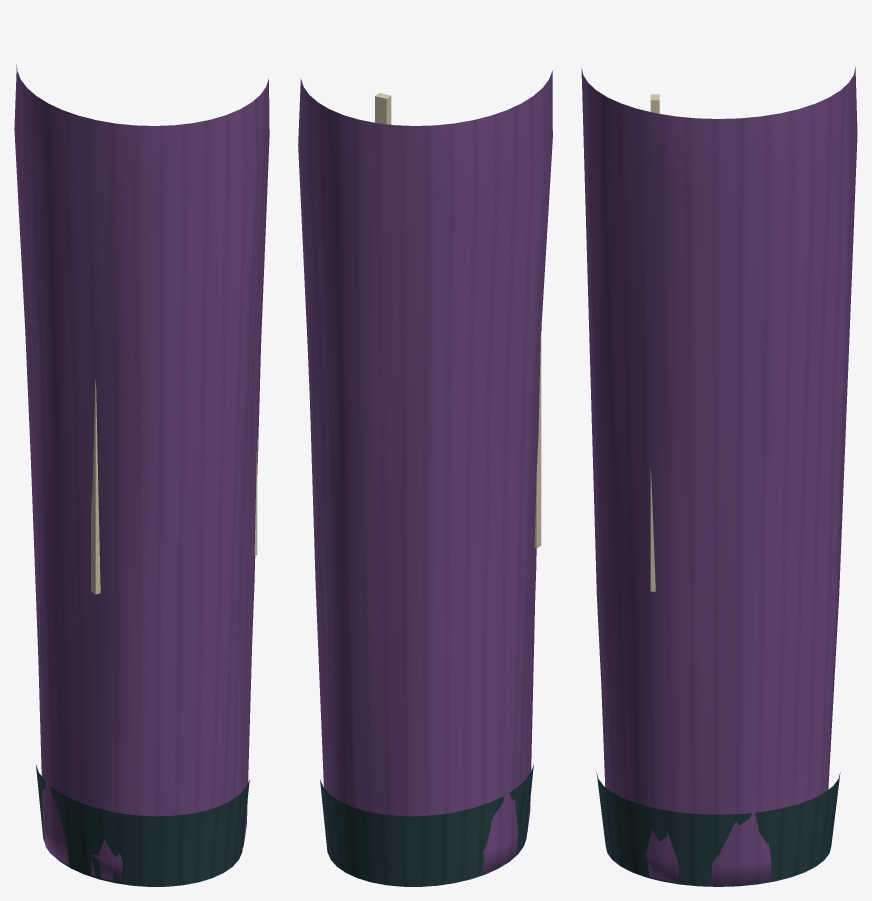
The model's file is campus_joggers.gltf.
The picture shows the model from 3 angles, left to right: view 1: azimuth 30°, elevation 25°; view 2: azimuth 150°, elevation 25°; view 3: azimuth 270°, elevation 25°; orthographic projection.
Visible parts, largest first — view 1: LegL; view 2: LegL, LegR; view 3: LegL.
Part boxes in pixels (bbox=[...]): LegL: bbox=[14, 65, 269, 886]; LegL: bbox=[298, 70, 552, 886]; LegR: bbox=[375, 93, 391, 124]; LegL: bbox=[581, 67, 857, 886].
Bounding box in the file's own units: 0.2182 × 0.749 × 0.2397.
3 materials, 3 textured.
